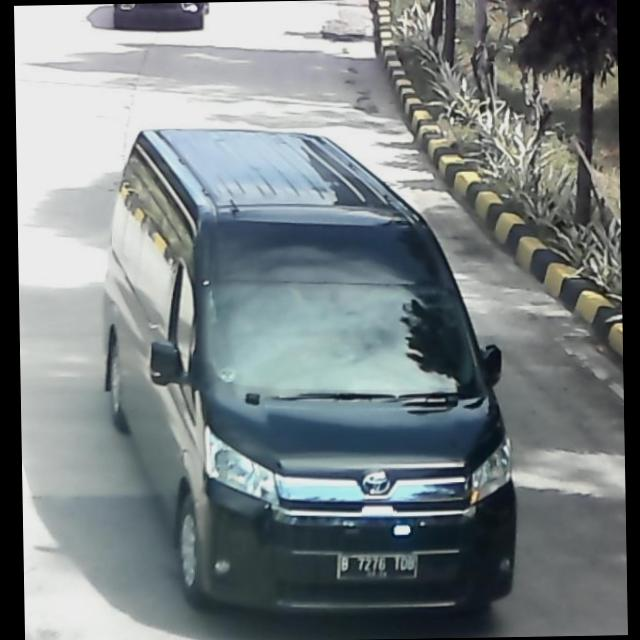plate: (333, 550, 420, 580)
